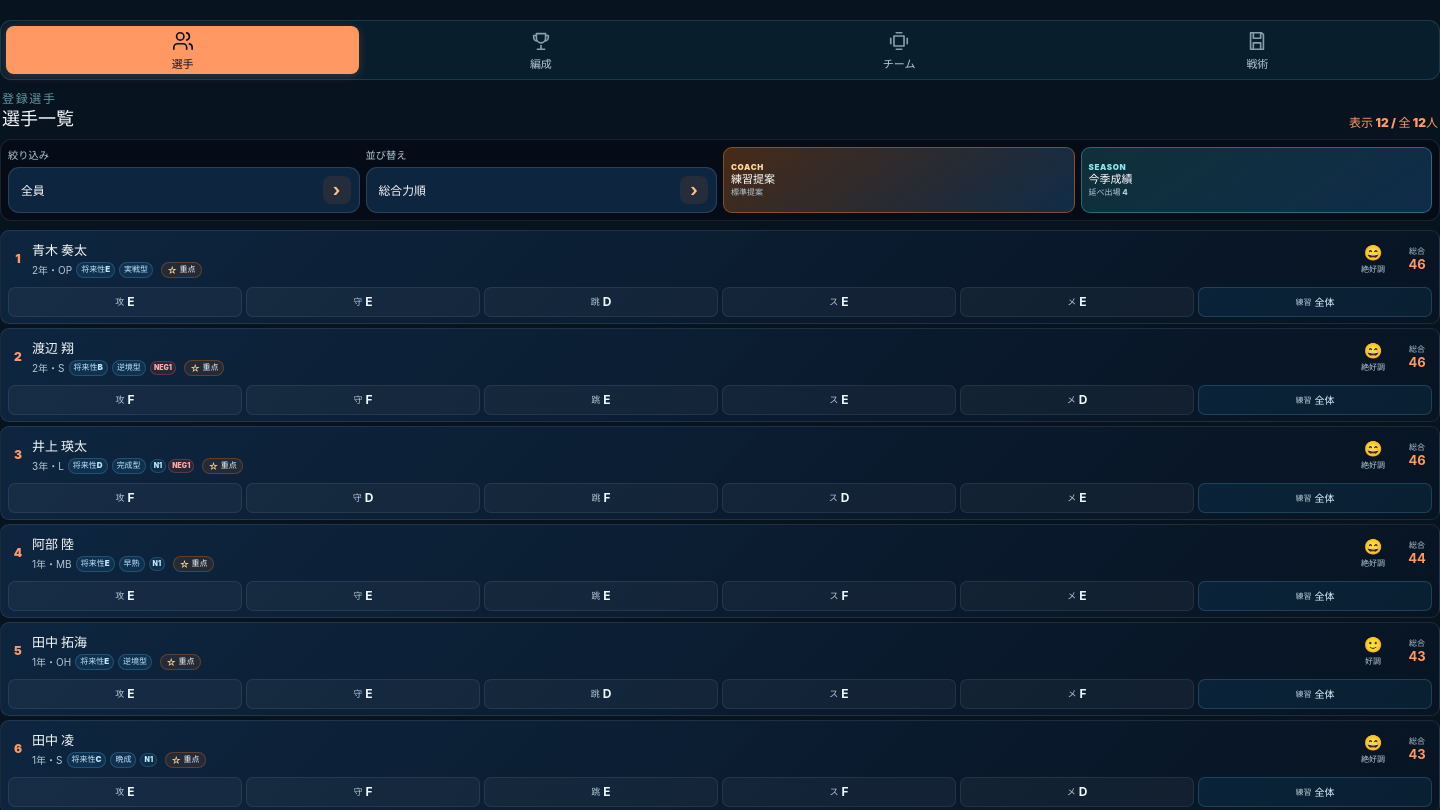
Test: PlayerHubScreen › switches the team stats sheet between current season and school legacy records
Click the button with aria-label "今季の公式戦成績" at point(1107, 167), box [1080,147,1432,213]
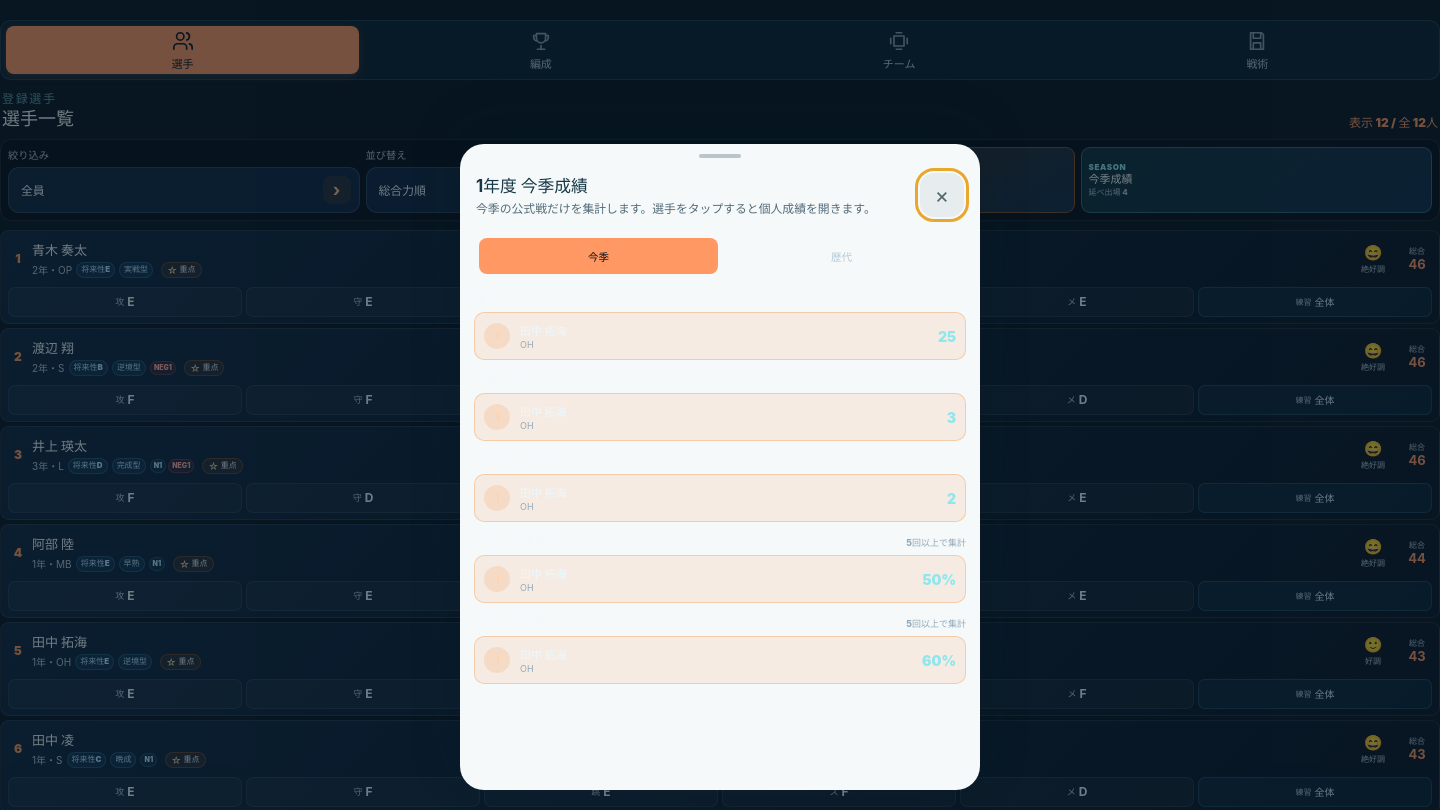
expect the element named "今季公式戦ランキング" is shown: met, box [474,289,966,684]
Click the button "歴代" at point(842, 256), box [722,238,961,274]
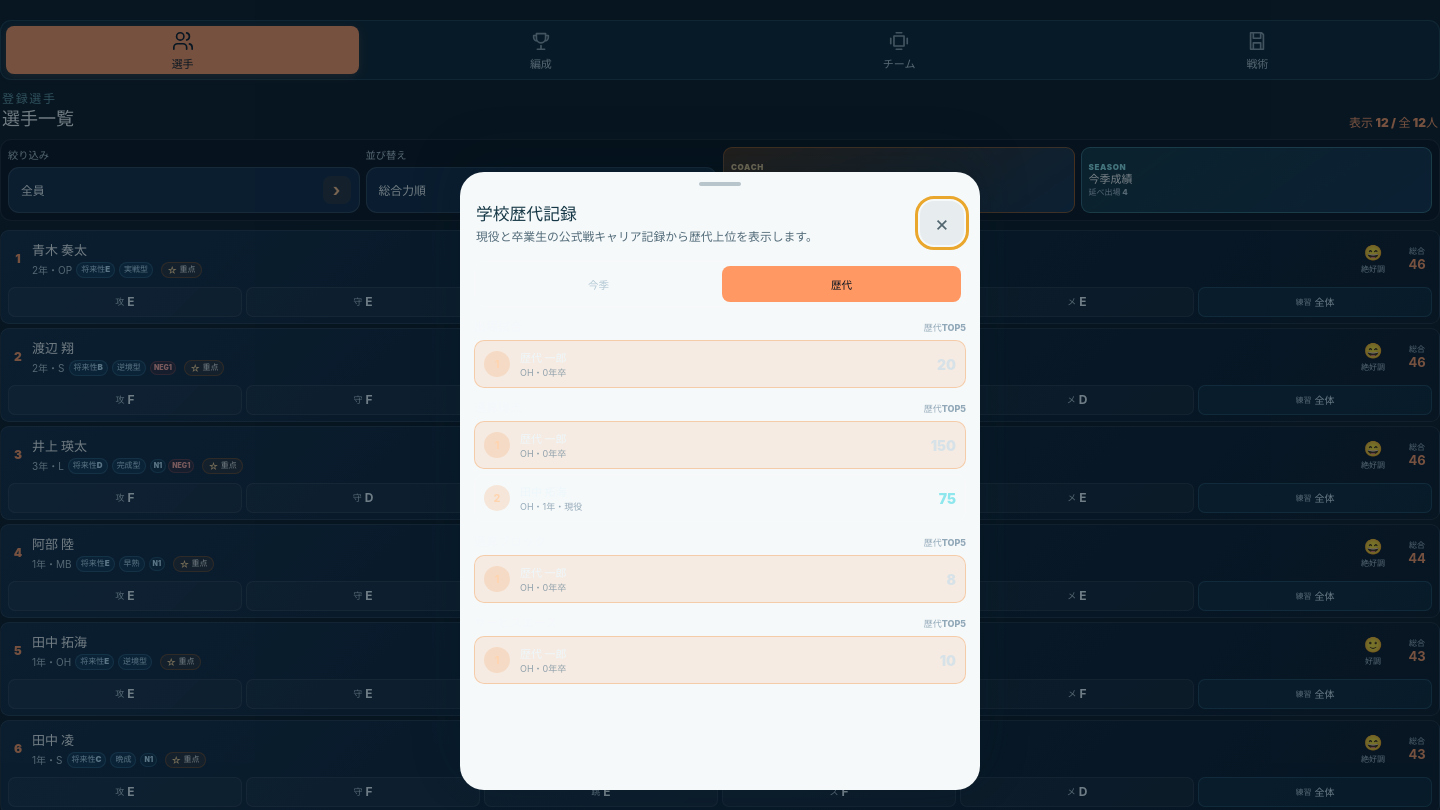
expect the text "150" is shown: met, box [931,436,956,454]
expect the heading "学校歴代記録" is shown: met, box [476,204,577,224]
